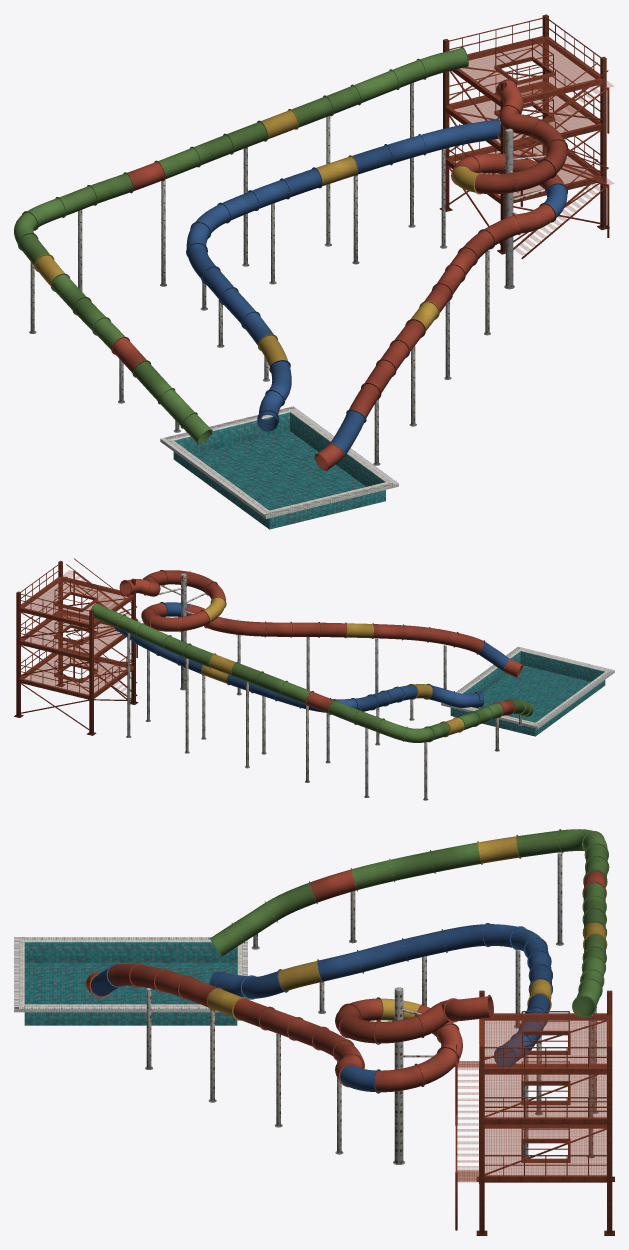
File: sala_torre_scivoli.glb
3 renders of one model, top to bottom at view 1: azimuth 30°, elevation 25°; view 2: azimuth 150°, elevation 25°; view 3: azimuth 270°, elevation 25°, orthographic. The views are drawn at different scales.
Parts seen in each view (by area): view 1: sala_scivolo_grande, sala_scivolo_spirale, sala_torre, sala_scivolo_medio, sala_torre_grigliati, arrivo_bordi, sala_sostegni_scivoli, sala_vasca_arrivo_fondo; view 2: sala_torre, sala_scivolo_spirale, sala_scivolo_grande, sala_torre_grigliati, sala_sostegni_scivoli, arrivo_bordi, sala_scivolo_medio, sala_vasca_arrivo_fondo; view 3: sala_torre_grigliati, sala_scivolo_spirale, sala_torre, sala_scivolo_grande, arrivo_bordi, sala_scivolo_medio, sala_sostegni_scivoli, sala_vasca_arrivo_fondo.
Part boxes in pixels (box(x1,y1,x2,y2)): sala_scivolo_grande: box(14, 46, 468, 444); sala_scivolo_spirale: box(314, 79, 567, 470); sala_torre: box(439, 14, 609, 259); sala_scivolo_medio: box(186, 118, 500, 431); sala_torre_grigliati: box(447, 36, 613, 254); arrivo_bordi: box(160, 406, 398, 529); sala_sostegni_scivoli: box(29, 82, 545, 465); sala_vasca_arrivo_fondo: box(193, 431, 365, 510); sala_torre: box(14, 558, 138, 735); sala_scivolo_spirale: box(119, 570, 522, 677); sala_scivolo_grande: box(91, 603, 533, 742); sala_torre_grigliati: box(21, 570, 140, 697); sala_sostegni_scivoli: box(126, 573, 522, 800); arrivo_bordi: box(441, 646, 614, 736); sala_scivolo_medio: box(114, 627, 483, 712); sala_vasca_arrivo_fondo: box(474, 665, 590, 722); sala_torre_grigliati: box(456, 1014, 608, 1182); sala_scivolo_spirale: box(86, 963, 493, 1093); sala_torre: box(455, 990, 614, 1235); sala_scivolo_grande: box(210, 829, 609, 1018); arrivo_bordi: box(14, 937, 247, 1025); sala_scivolo_medio: box(209, 923, 552, 1067); sala_sostegni_scivoli: box(145, 852, 598, 1164); sala_vasca_arrivo_fondo: box(24, 962, 237, 1004).
Size of what is drawn, in the model's own units: 33.53 by 11.75 by 28.25.
Materials: 12 (11 with a texture image).
